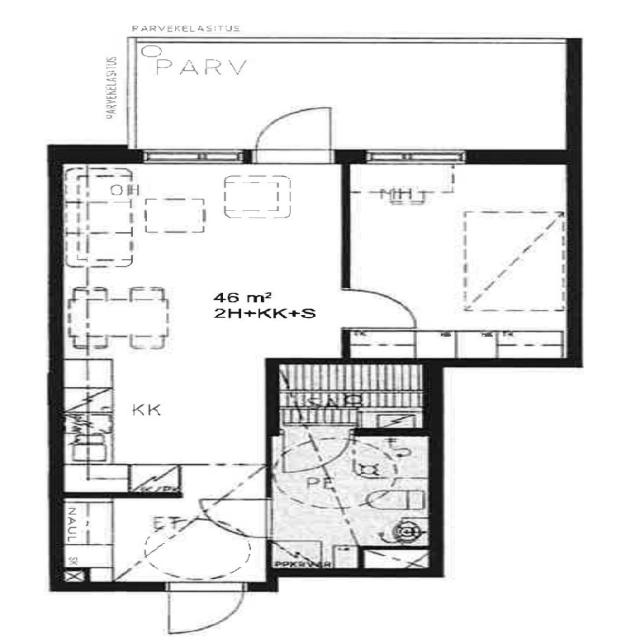door: (243, 102, 341, 164), (154, 579, 251, 639), (333, 282, 423, 333), (277, 422, 357, 475), (198, 491, 279, 542)
window: (352, 144, 478, 168), (132, 144, 250, 168)
zone: (58, 169, 354, 428), (342, 154, 570, 358), (59, 344, 275, 498), (269, 432, 434, 574), (50, 495, 267, 587), (269, 362, 427, 430)
